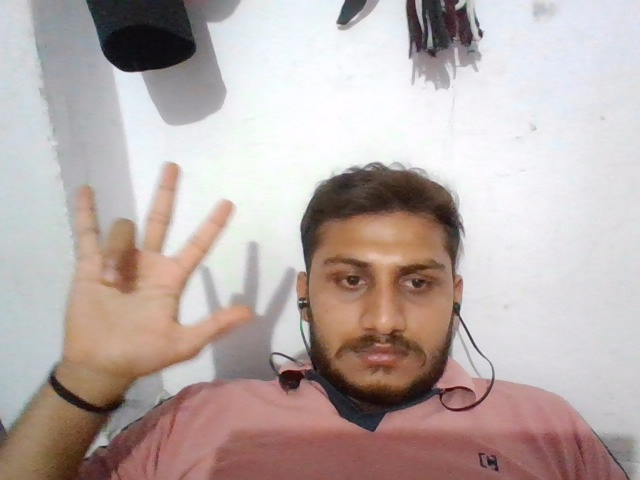ILoveYou: (66, 152, 262, 373)
